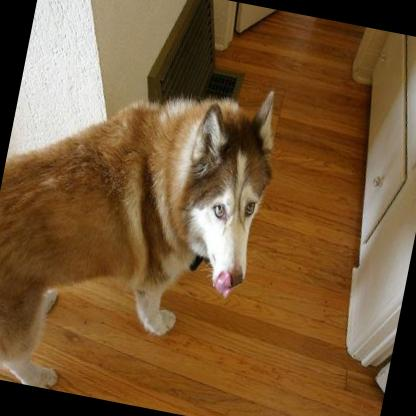Eskimo_dog: (0, 40, 288, 416)
